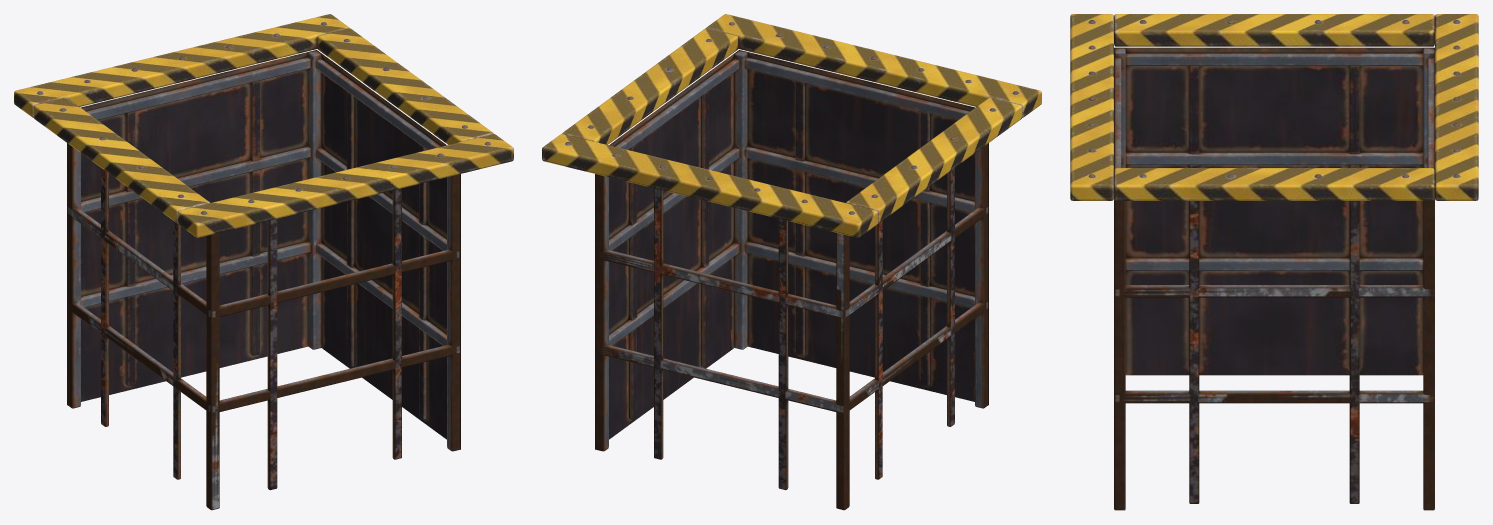
Rendered from arena_pit.glb.
3 renders of one model, left to right at view 1: azimuth 30°, elevation 25°; view 2: azimuth 150°, elevation 25°; view 3: azimuth 270°, elevation 25°, orthographic. The views are drawn at different scales.
Parts seen in each view (by area): view 1: pit; view 2: pit; view 3: pit.
Boxes of the visible parts, x1,y1,x2,y2 form: pit: (14,14,513,510); pit: (542,14,1041,510); pit: (1070,14,1478,510).
Bounding box in the file's own units: 2.8 × 2.61 × 2.8.
Materials: 1 (1 with a texture image).
